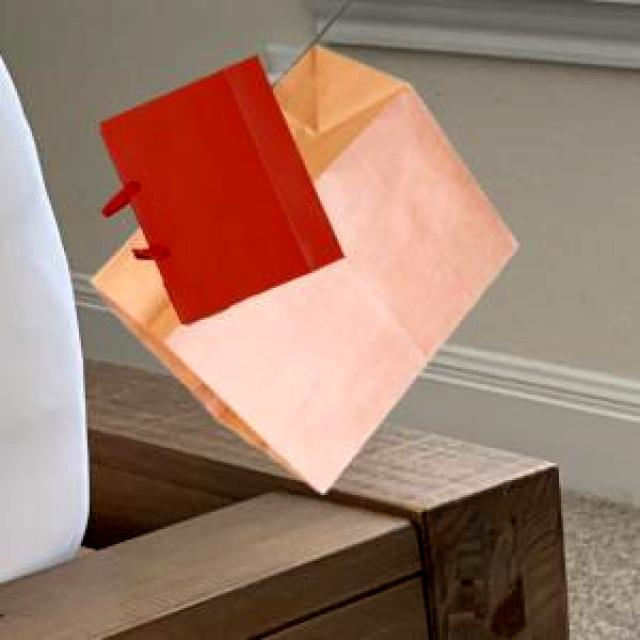Paper_Bag: (89, 43, 514, 490), (97, 52, 340, 323)
